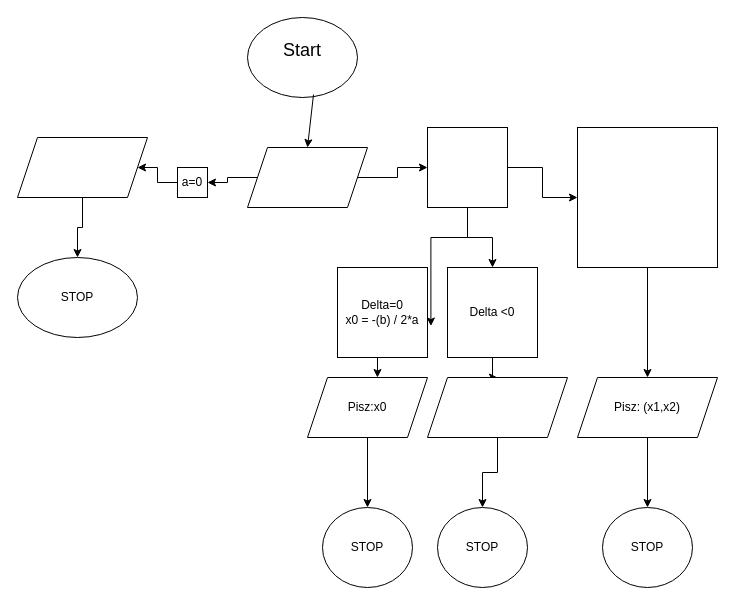
Image size: 735x605. Some labels were removed from this diagram. The shapes that lost their labels are listed below. From the top down, each one's centre as x and y in pixels, then its label:
pixel 82 167: To równianie liniowe
pixel 307 177: Podaj (a,b,c)
pixel 467 167: Delta=b^2-4ac
pixel 647 197: Delta >0 x1=b^2-(delta^0.5) / (2*a) x1=b^2+(delta^0.5) / (2*a)
pixel 497 407: Pisz:Brak Roziązań
